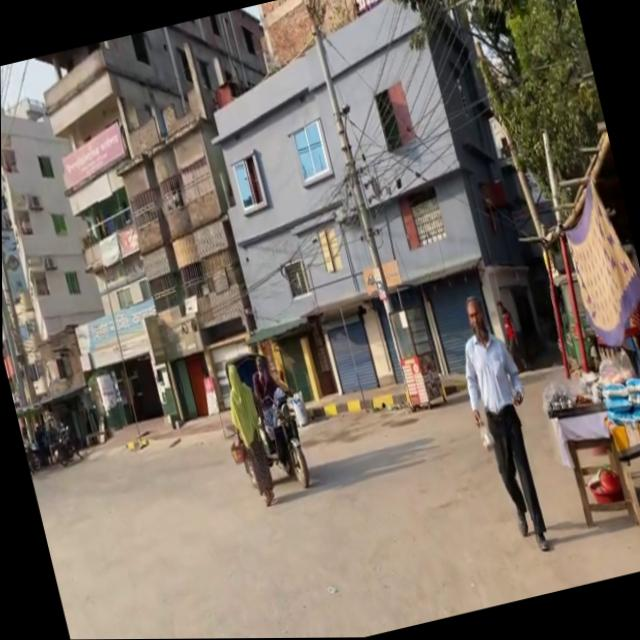Bench: (208, 343, 320, 512)
Construction-barrier: (138, 333, 564, 472), (307, 346, 565, 433), (318, 384, 409, 425), (368, 391, 394, 412), (321, 402, 337, 419)
Fallen-tree: (45, 419, 82, 469), (22, 438, 43, 475)
Garbage: (545, 380, 640, 560)
Garbage-bin: (445, 289, 560, 561)
Light-pole: (308, 18, 409, 383)
